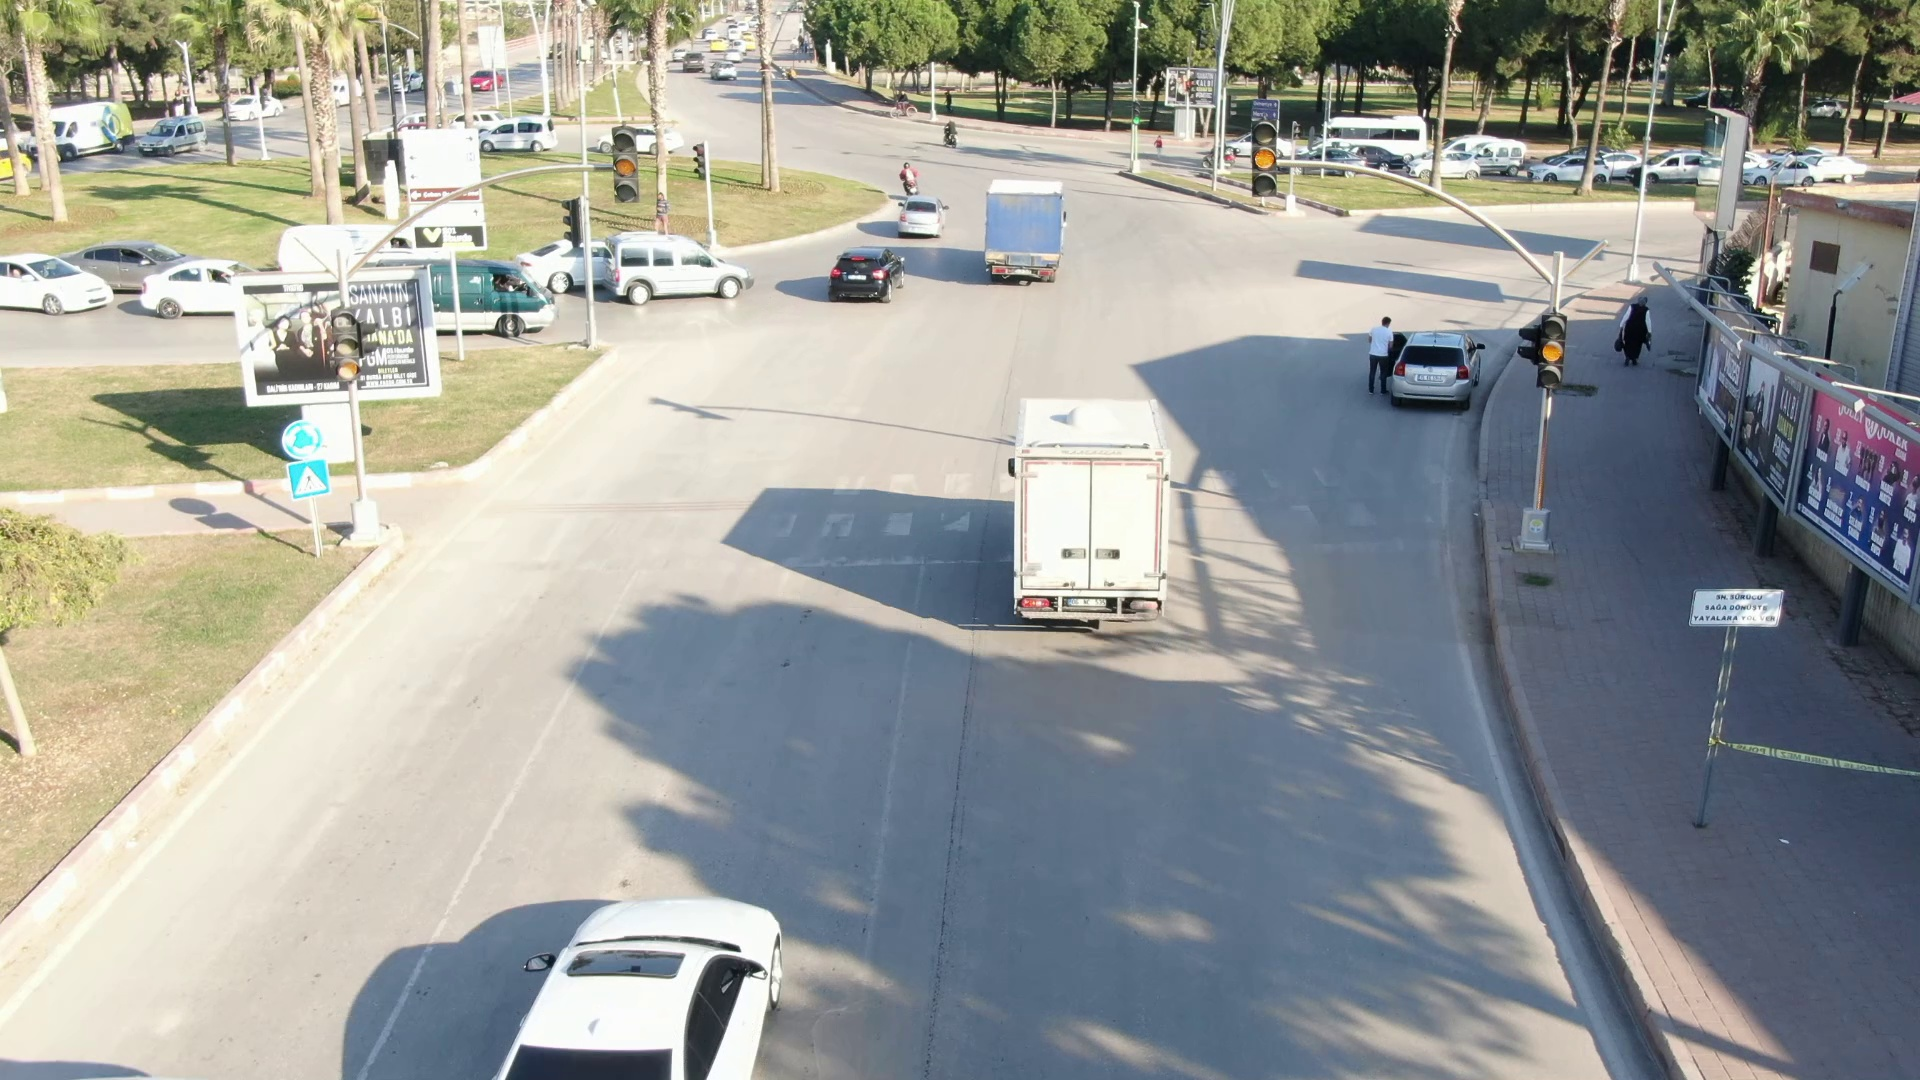car: (973, 373, 1223, 645), (599, 218, 760, 306), (977, 169, 1084, 292), (1393, 322, 1492, 414), (818, 235, 912, 306), (1518, 148, 1612, 191), (893, 195, 960, 238)
person: (1614, 288, 1661, 371), (1364, 309, 1399, 399)
